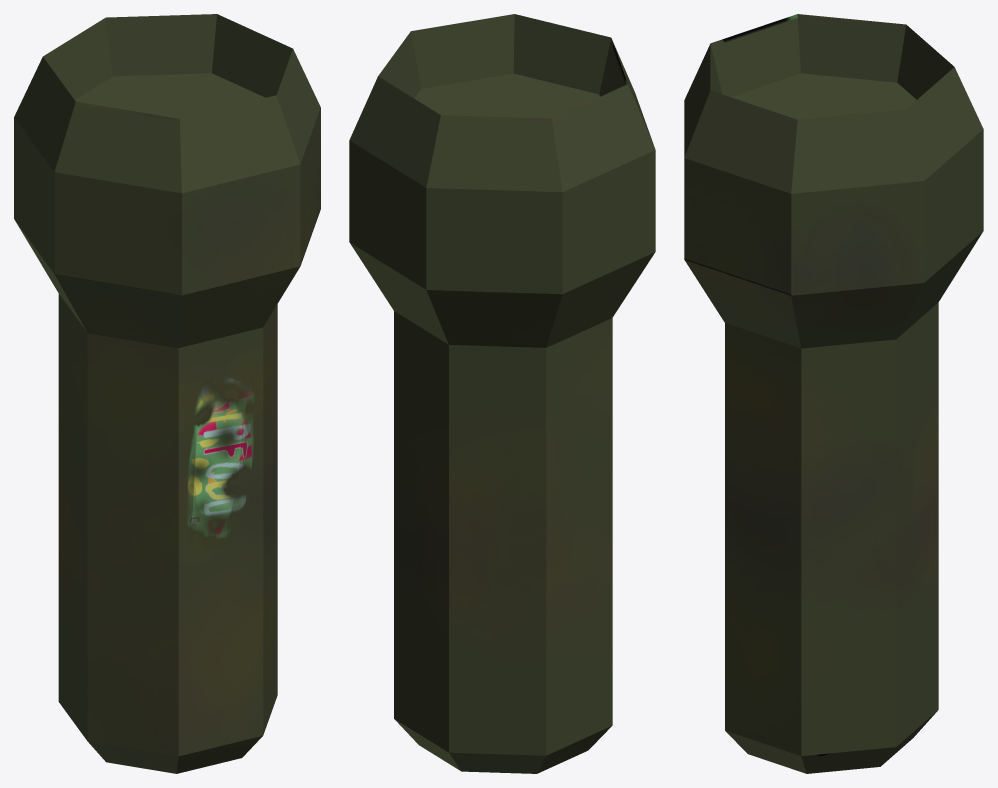
File: flTest.glb
3 renders of one model, left to right at view 1: azimuth 30°, elevation 25°; view 2: azimuth 150°, elevation 25°; view 3: azimuth 270°, elevation 25°, orthographic.
Parts seen in each view (by area): view 1: Cylinder, UvMapBake; view 2: Cylinder; view 3: Cylinder.
Boxes of the visible parts, left/top/right/bottom form: Cylinder: left=14, top=14, right=320, bottom=773; UvMapBake: left=186, top=376, right=254, bottom=538; Cylinder: left=349, top=14, right=655, bottom=773; Cylinder: left=684, top=14, right=983, bottom=773.
Bounding box in the file's own units: 2.73 × 6.59 × 2.66.
Materials: 2 (2 with a texture image).
